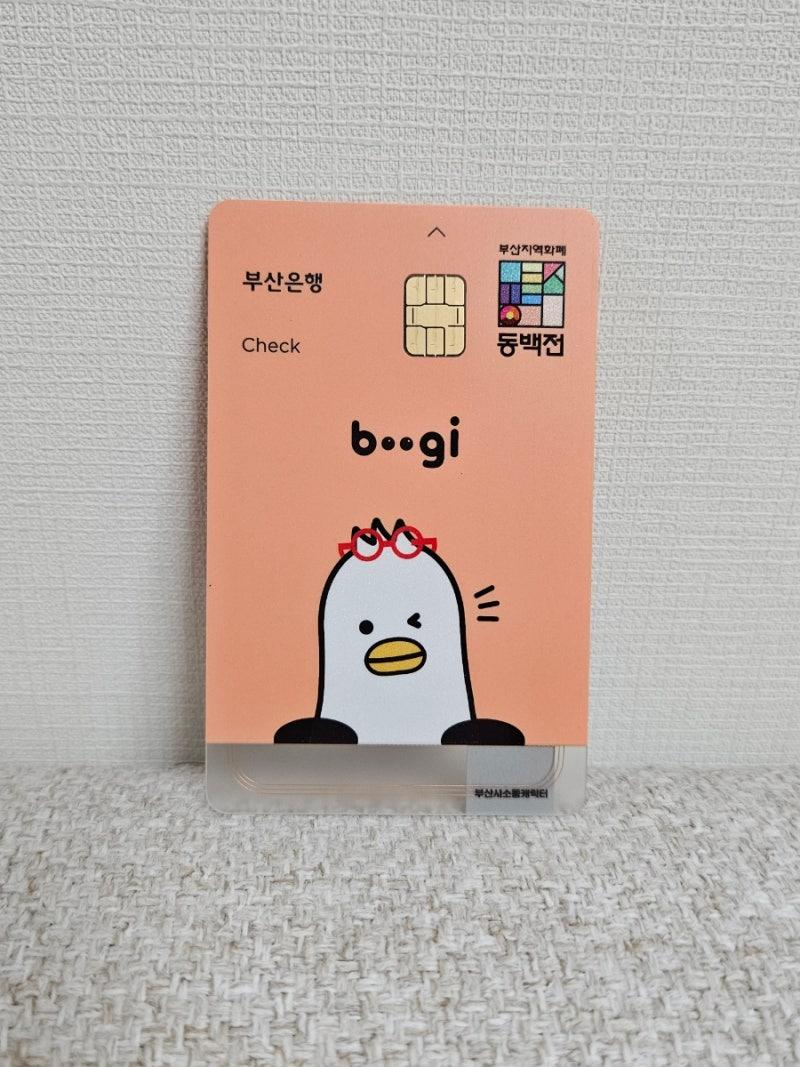Credit_card: (205, 201, 598, 815)
